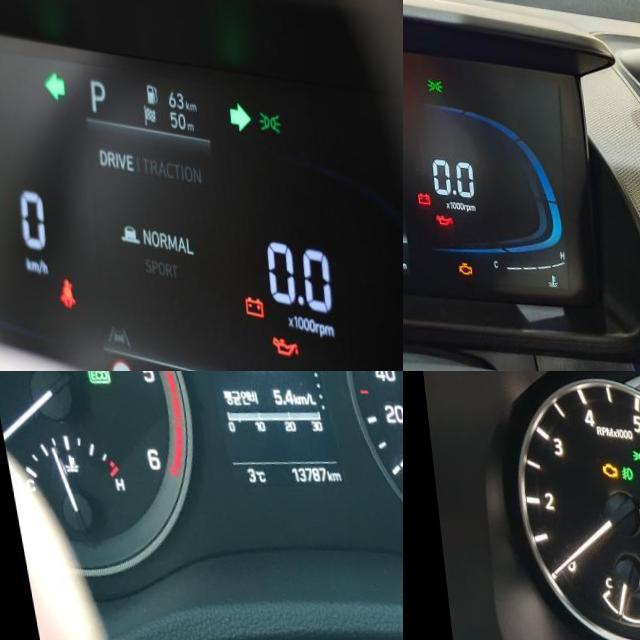FrontFogLight: (613, 458, 625, 475)
SideLamp: (252, 96, 276, 121), (623, 441, 638, 456), (422, 66, 438, 80)
